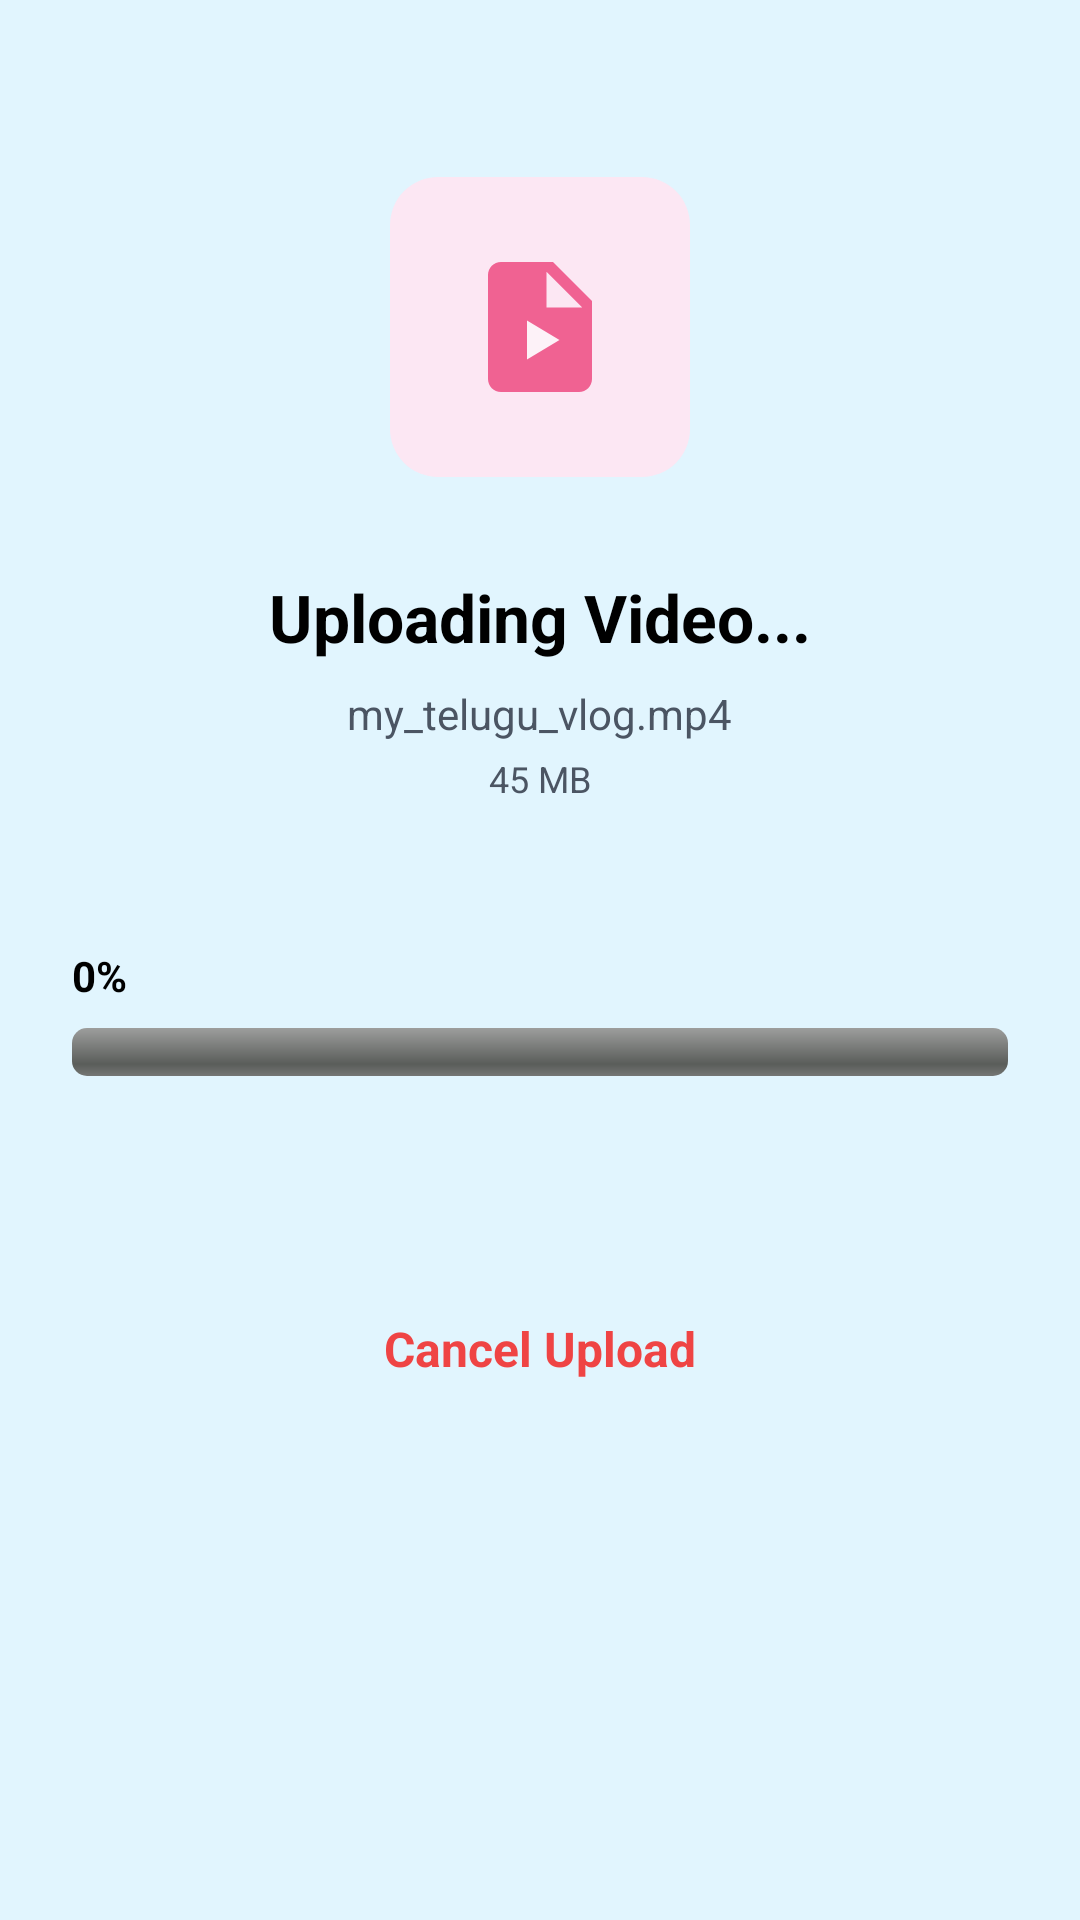

Icon bounding boxes for this 1080×1920 phone screenshot, format bbox=(x1, y1, x2, y2):
file video: bbox=(488, 262, 592, 392)
